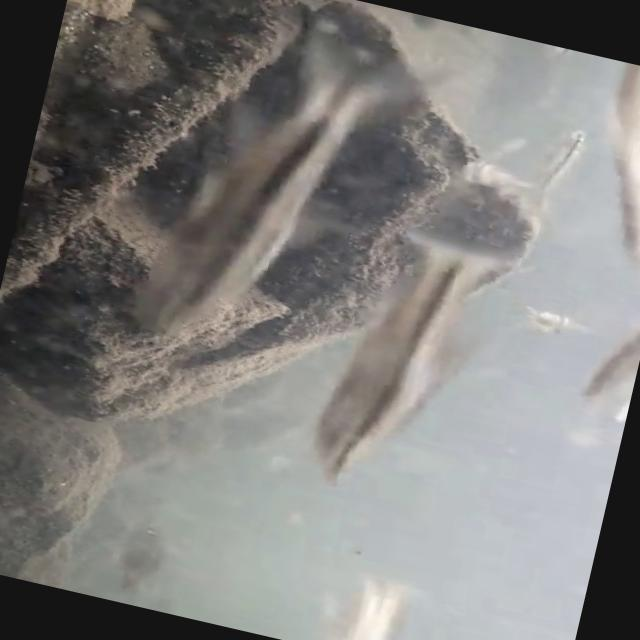Cakil Baligi: (128, 12, 448, 380), (304, 220, 560, 526)
